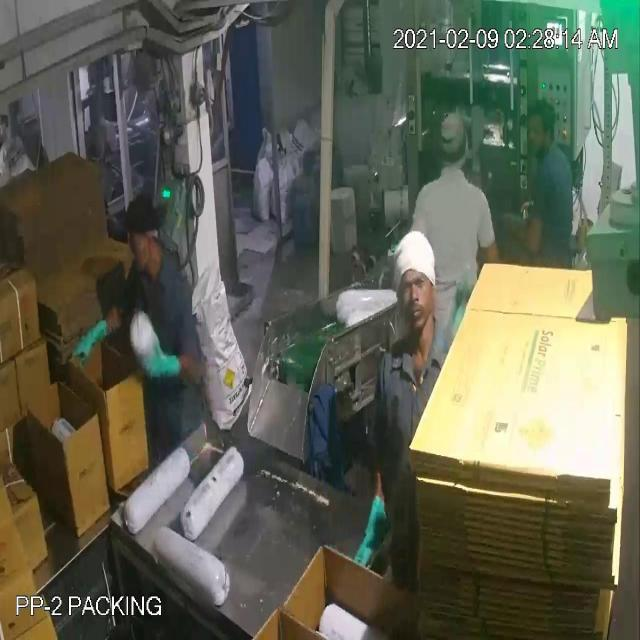Gloves: (46, 56, 368, 536)
